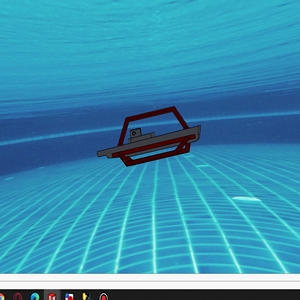submarine: (96, 107, 201, 162)
